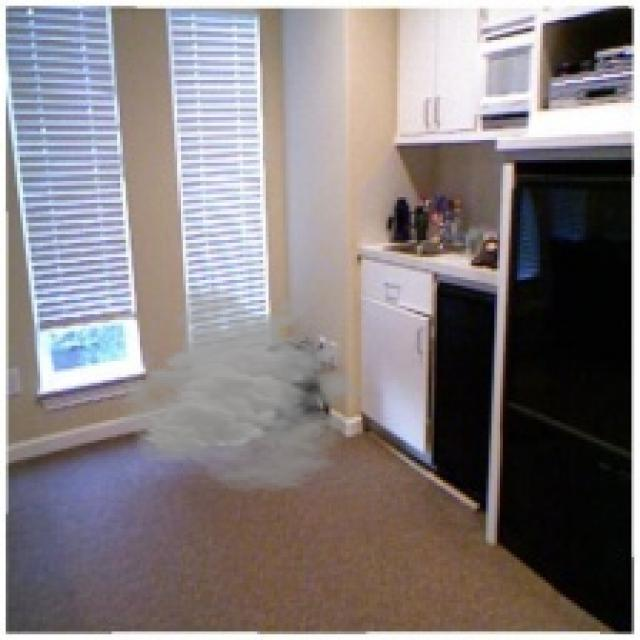smoke: (108, 286, 383, 494)
